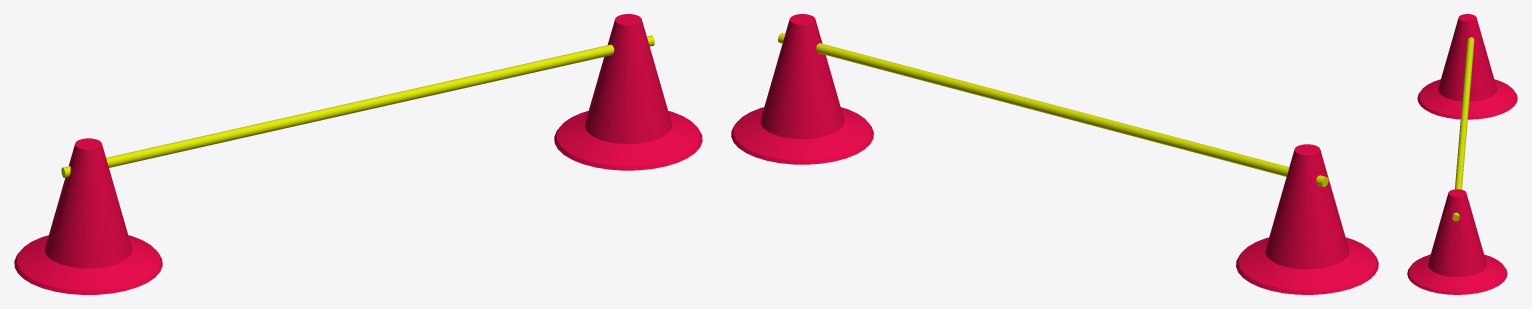
The model's file is NewObstacle.fbx.
3 renders of one model, left to right at view 1: azimuth 30°, elevation 25°; view 2: azimuth 150°, elevation 25°; view 3: azimuth 270°, elevation 25°, orthographic. The views are drawn at different scales.
Visible parts, largest first — view 1: Cone Right, Cone Left, Bar; view 2: Cone Left, Cone Right, Bar; view 3: Cone Left, Cone Right, Bar.
Part boxes in pixels (left/top/right/bottom): Cone Right: left=14, top=138, right=162, bottom=294; Cone Left: left=554, top=14, right=702, bottom=170; Bar: left=61, top=35, right=654, bottom=177; Cone Left: left=731, top=14, right=873, bottom=164; Cone Right: left=1236, top=144, right=1378, bottom=294; Bar: left=778, top=33, right=1328, bottom=186; Cone Left: left=1407, top=189, right=1507, bottom=294; Cone Right: left=1417, top=14, right=1517, bottom=119; Bar: left=1452, top=37, right=1474, bottom=221.
Size of the model in its own units: 972 by 168 by 209.
